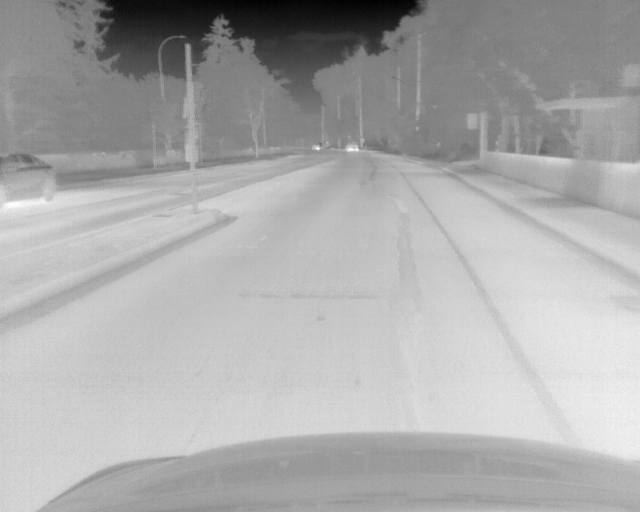car: (1, 152, 56, 208), (344, 142, 361, 153), (311, 142, 325, 152)
